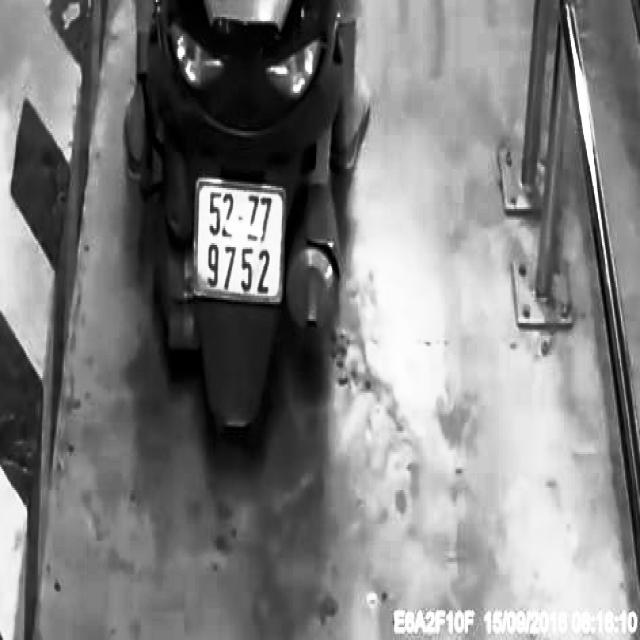license_plate: (194, 164, 288, 316)
